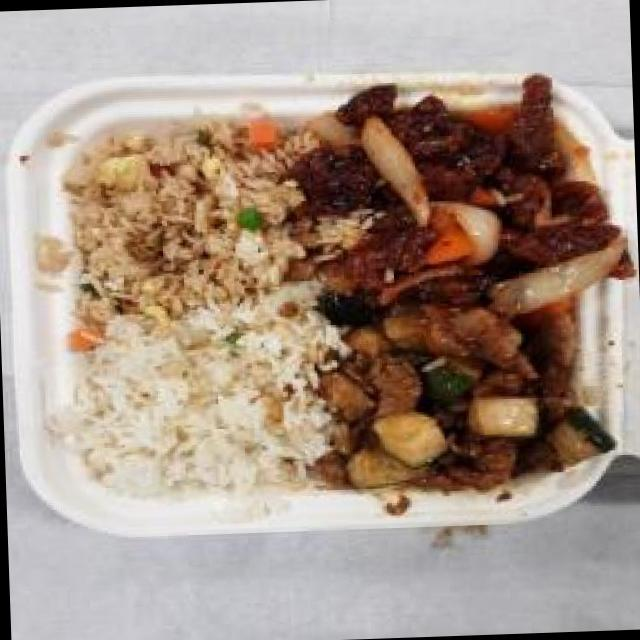Beijing Beef: (297, 74, 622, 298)
Fried Rice: (58, 116, 303, 327)
Kung Pao Chicken: (314, 290, 604, 505)
White Steamed Rice: (62, 325, 326, 502)
